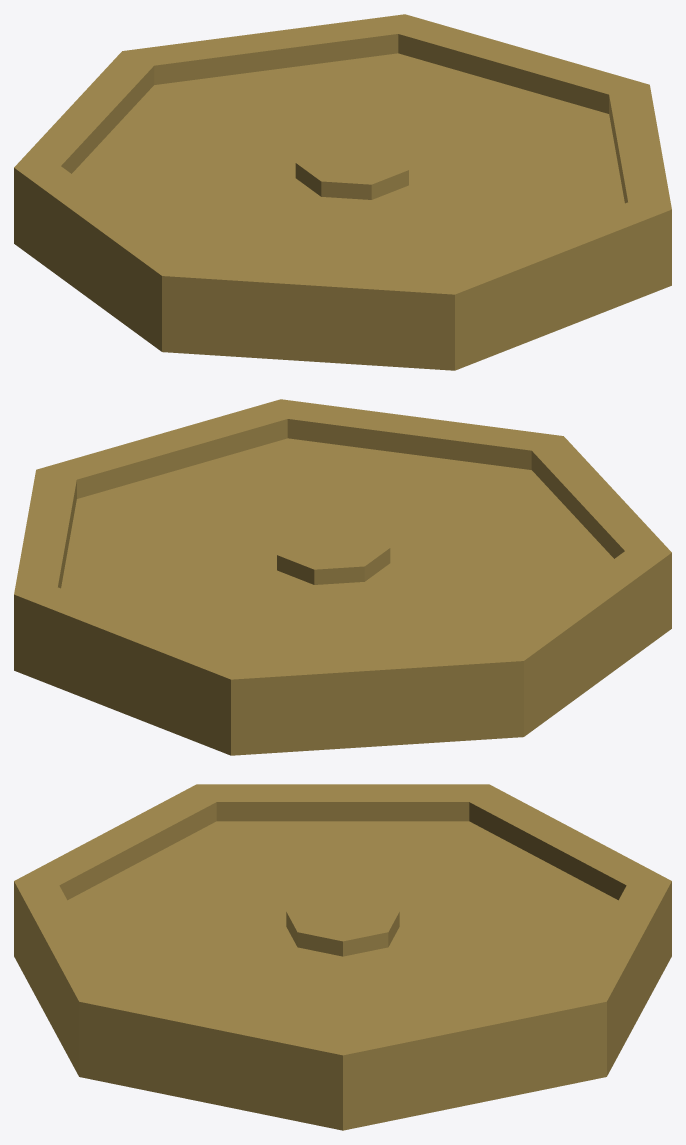
File: Coin.fbx
The picture shows the model from 3 angles, top to bottom: view 1: azimuth 30°, elevation 25°; view 2: azimuth 150°, elevation 25°; view 3: azimuth 270°, elevation 25°; orthographic projection.
Visible parts, largest first — view 1: pCylinder1; view 2: pCylinder1; view 3: pCylinder1.
Boxes of the visible parts, x1,y1,x2,y2 form: pCylinder1: (14, 14, 671, 370); pCylinder1: (14, 399, 671, 755); pCylinder1: (14, 784, 671, 1130).
Bounding box in the file's own units: 2.3 × 0.2972 × 2.35.
